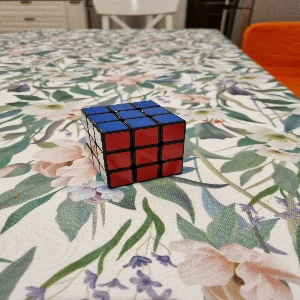cube: (81, 100, 187, 190)
